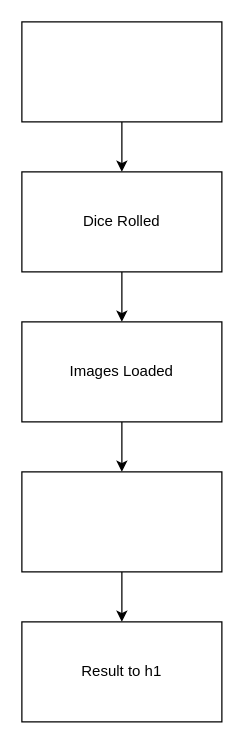
This 244x744 diagram has some shape labels left out. The centre of each missing label's shape, as x and y in pixels:
Values Compared: (121,521)
Website Load: (121,71)
